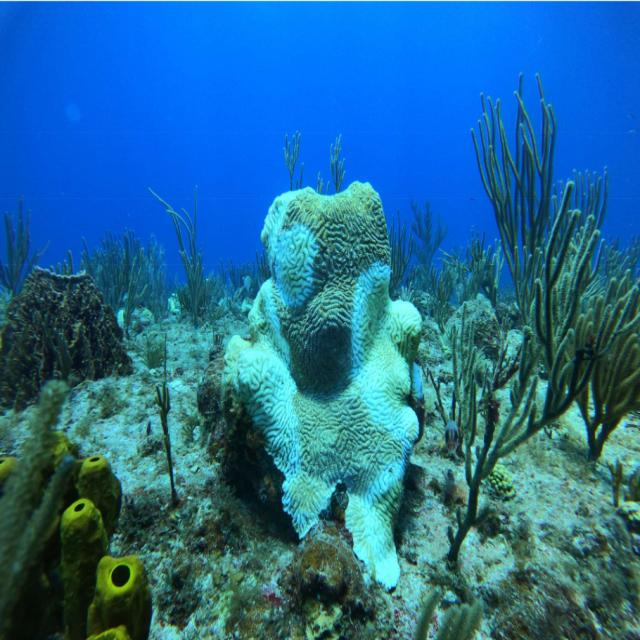Coral: (221, 179, 426, 592)
